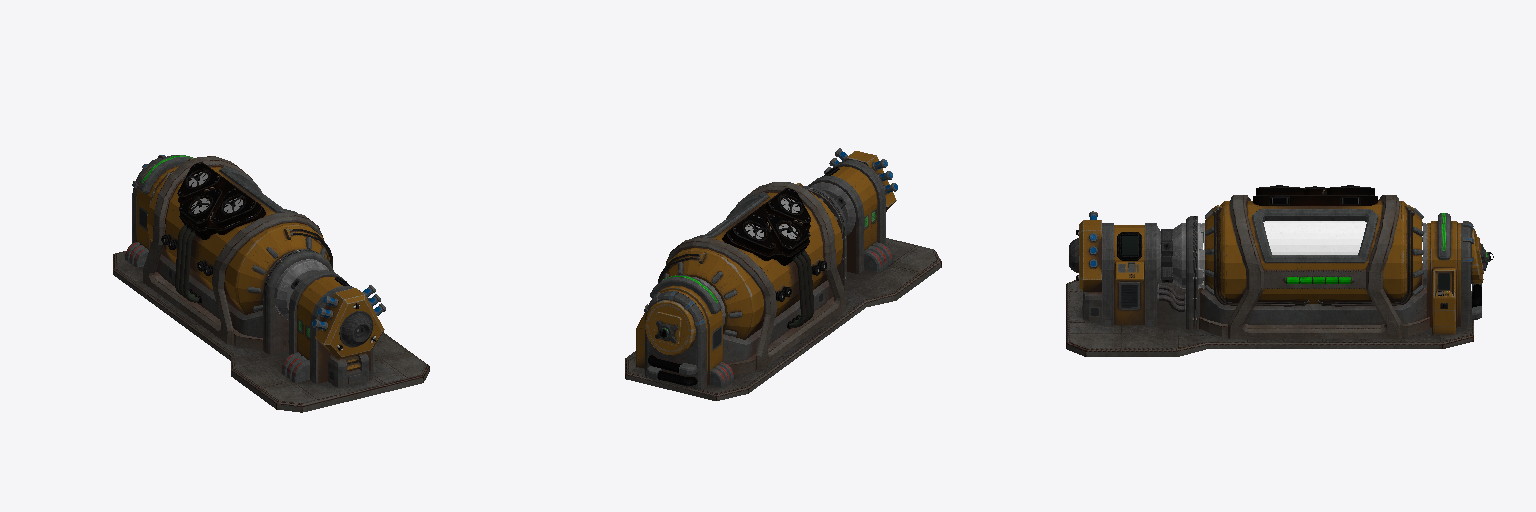
3 views of the same model, side by side, from view 1: azimuth 30°, elevation 25°; view 2: azimuth 150°, elevation 25°; view 3: azimuth 270°, elevation 25° (orthographic).
Parts seen in each view (by area): view 1: generator_low; view 2: generator_low; view 3: generator_low.
Boxes of the visible parts, box(x1,y1,x2,y2) form: generator_low: box(113, 155, 429, 412); generator_low: box(625, 148, 941, 400); generator_low: box(1066, 185, 1493, 356).
Size of the model in its own units: 3.19 by 2.54 by 7.69.
Materials: 1 (1 with a texture image).